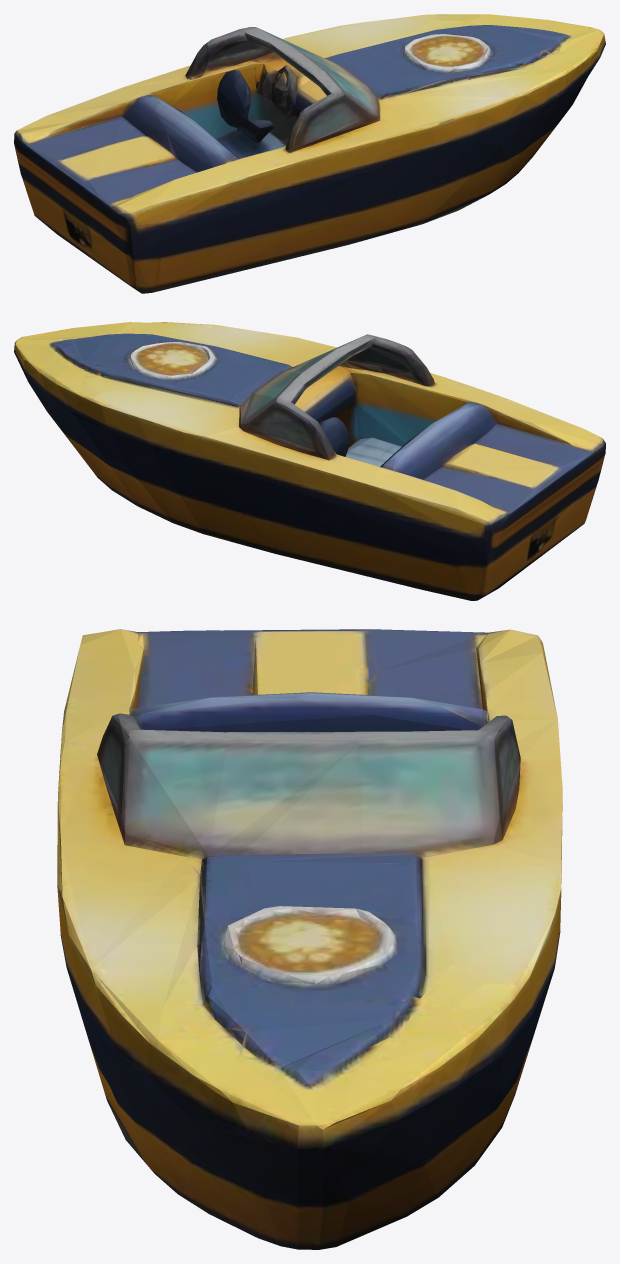
Rendered from boat-hero.glb.
The picture shows the model from 3 angles, top to bottom: view 1: azimuth 30°, elevation 25°; view 2: azimuth 150°, elevation 25°; view 3: azimuth 270°, elevation 25°; orthographic projection. The views are drawn at different scales.
Parts seen in each view (by area): view 1: geometry_0; view 2: geometry_0; view 3: geometry_0.
Part boxes in pixels (x1,y1,x2,y2): geometry_0: (14, 14, 605, 293); geometry_0: (14, 322, 605, 600); geometry_0: (57, 629, 562, 1249).
Bounding box in the file's own units: 0.9996 × 0.2656 × 0.4084.
1 material, 1 textured.
